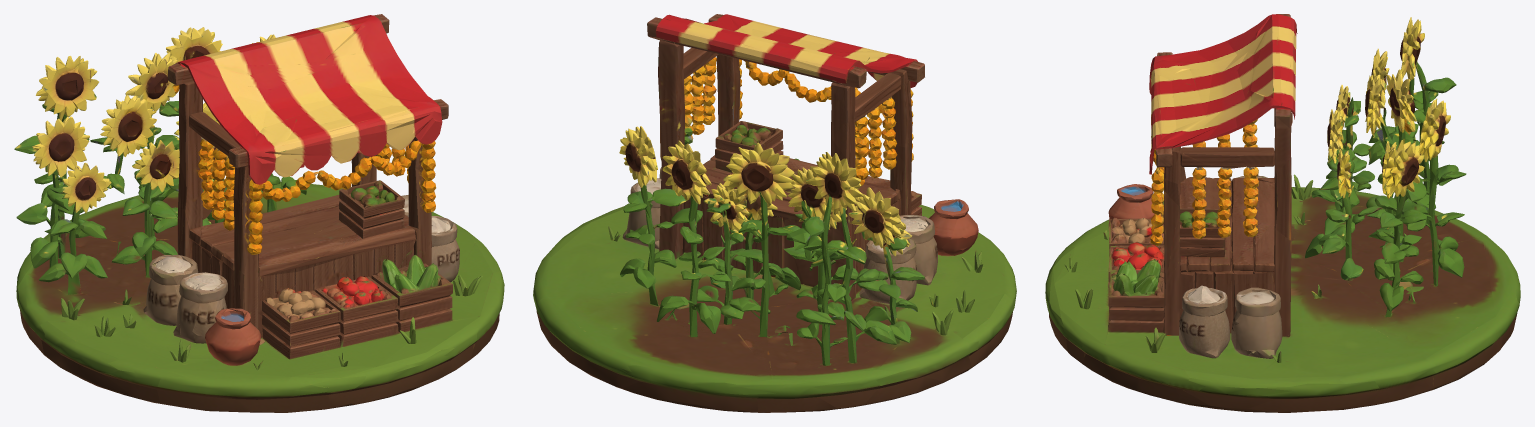
The model's file is prayagraj.glb.
3 views of the same model, side by side, from view 1: azimuth 30°, elevation 25°; view 2: azimuth 150°, elevation 25°; view 3: azimuth 270°, elevation 25° (orthographic). The views are drawn at different scales.
Bounding box in the file's own units: 1.9 × 1.17 × 1.9.
1 material, 1 textured.
